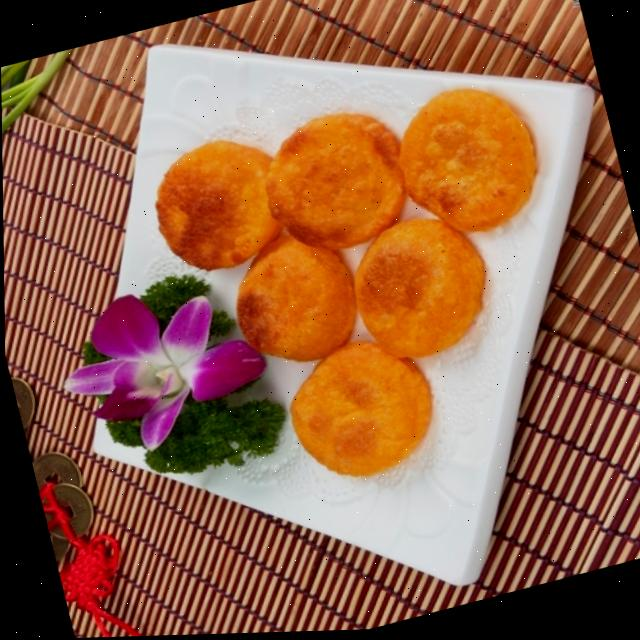炸货点心: (154, 22, 613, 536)
蛋糕甜品: (154, 22, 613, 536)
